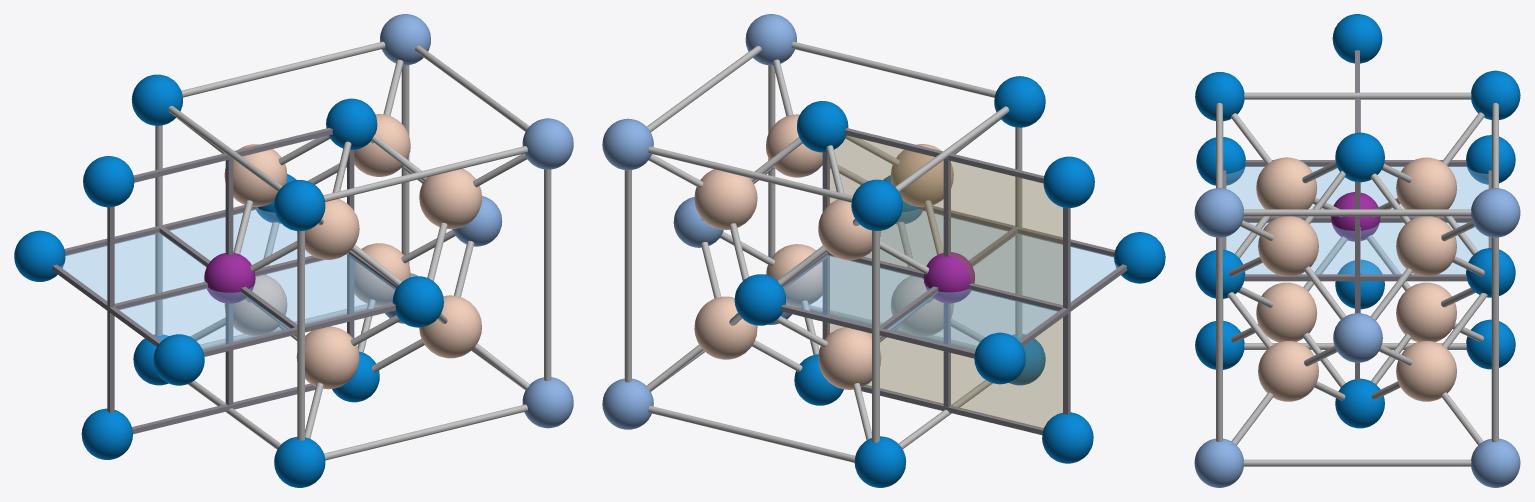
The model's file is index.gltf.
3 views of the same model, side by side, from view 1: azimuth 30°, elevation 25°; view 2: azimuth 150°, elevation 25°; view 3: azimuth 270°, elevation 25° (orthographic). The views are drawn at different scales.
Visible parts, largest first — view 1: node_Plane002_-44000, node_lan037_-43932, node_lan034_-43926, node_lan035_-43928, node_lan038_-43934, node_lan033_-43924, node_lan032_-43922, node_lv061_-43958, node_lv056_-43948, node_lv064_-43964, node_lan036_-43930, node_lv060_-43956 (+35 smaller); view 2: node_Plane001_-43998, node_Plane002_-44000, node_lan032_-43922, node_lan039_-43936, node_lan036_-43930, node_lan033_-43924, node_lan038_-43934, node_lv062_-43960, node_lv056_-43948, node_lv058_-43952, node_lv057_-43950, node_lv059_-43954 (+36 smaller); view 3: node_Plane002_-44000, node_lan035_-43928, node_lan036_-43930, node_lan032_-43922, node_lan037_-43932, node_lan039_-43936, node_lan034_-43926, node_lan038_-43934, node_lan033_-43924, node_lv044_-43940, node_lv042_-43938, node_lv049_-43944 (+43 smaller).
Part boxes in pixels (x1,y1,x2,y2): node_Plane002_-44000: (60,208,395,349); node_lan037_-43932: (419,168,481,229); node_lan034_-43926: (296,326,359,389); node_lan035_-43928: (419,295,481,358); node_lan038_-43934: (297,199,359,259); node_lan033_-43924: (224,144,287,206); node_lan032_-43922: (354,114,410,176); node_lv061_-43958: (153,334,204,385); node_lv056_-43948: (83,156,134,207); node_lv064_-43964: (274,180,325,231); node_lan036_-43930: (354,243,410,306); node_lv060_-43956: (392,276,443,327); node_Plane001_-43998: (829,135,1062,428); node_Plane002_-44000: (783,209,1118,350); node_lan032_-43922: (694,169,757,229); node_lan039_-43936: (818,327,881,389); node_lan036_-43930: (694,296,757,359); node_lan033_-43924: (818,199,880,260); node_lan038_-43934: (890,144,953,207); node_lv062_-43960: (851,179,902,230); node_lv056_-43948: (1043,156,1094,207); node_lv058_-43952: (974,332,1025,384); node_lv057_-43950: (1042,412,1093,463); node_lv059_-43954: (734,274,785,325); node_Plane002_-44000: (1226,166,1488,273); node_lan035_-43928: (1258,341,1318,401); node_lan036_-43930: (1396,341,1456,401); node_lan032_-43922: (1396,216,1456,276); node_lan037_-43932: (1258,216,1318,276); node_lan039_-43936: (1396,282,1456,341); node_lan034_-43926: (1256,282,1317,342); node_lan038_-43934: (1256,157,1317,217); node_lan033_-43924: (1396,157,1456,216); node_lv044_-43940: (1333,313,1382,362); node_lv042_-43938: (1471,188,1520,237); node_lv049_-43944: (1194,188,1243,237).
Size of the model in its own units: 1.34 by 0.9442 by 0.9445.
